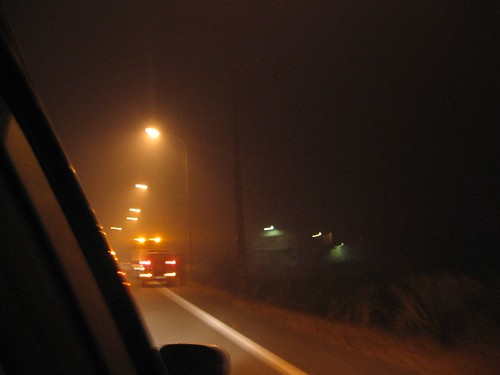car: (134, 250, 186, 288)
light pole: (147, 118, 200, 275), (132, 181, 173, 251)
sky: (22, 1, 500, 198)
